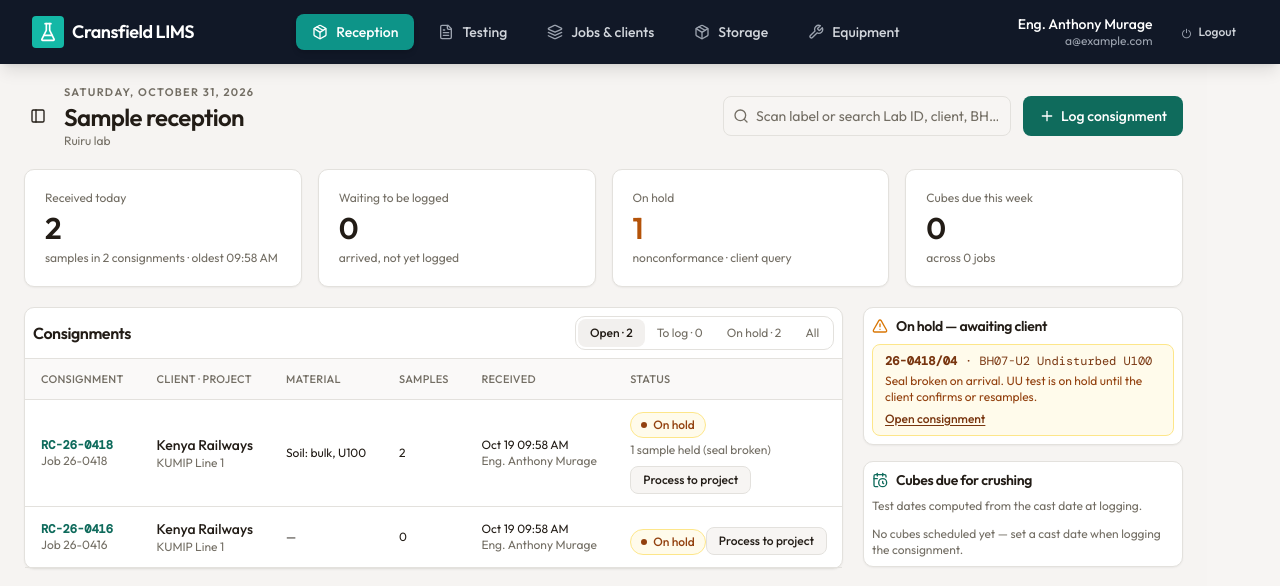
Test: Reception dashboard › narrows the list when searching by Lab ID
Expected: the text "RC-26-0418" is shown, left=41, top=436, right=125, bottom=452
In the field with placeholder "Scan label or search Lab ID, client, BH…": (867, 116) left=723, top=96, right=1011, bottom=136, type "26-0418/04"
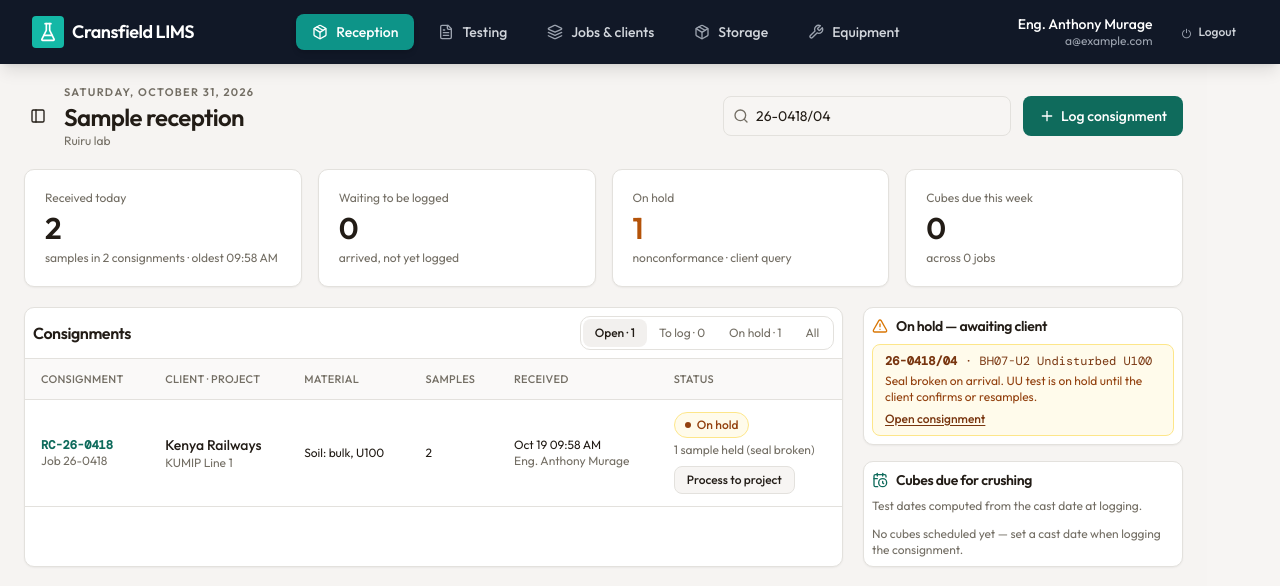
Expected: the text "RC-26-0418" is shown, left=41, top=436, right=113, bottom=452
Expected: the text "RC-26-0416" is gone
